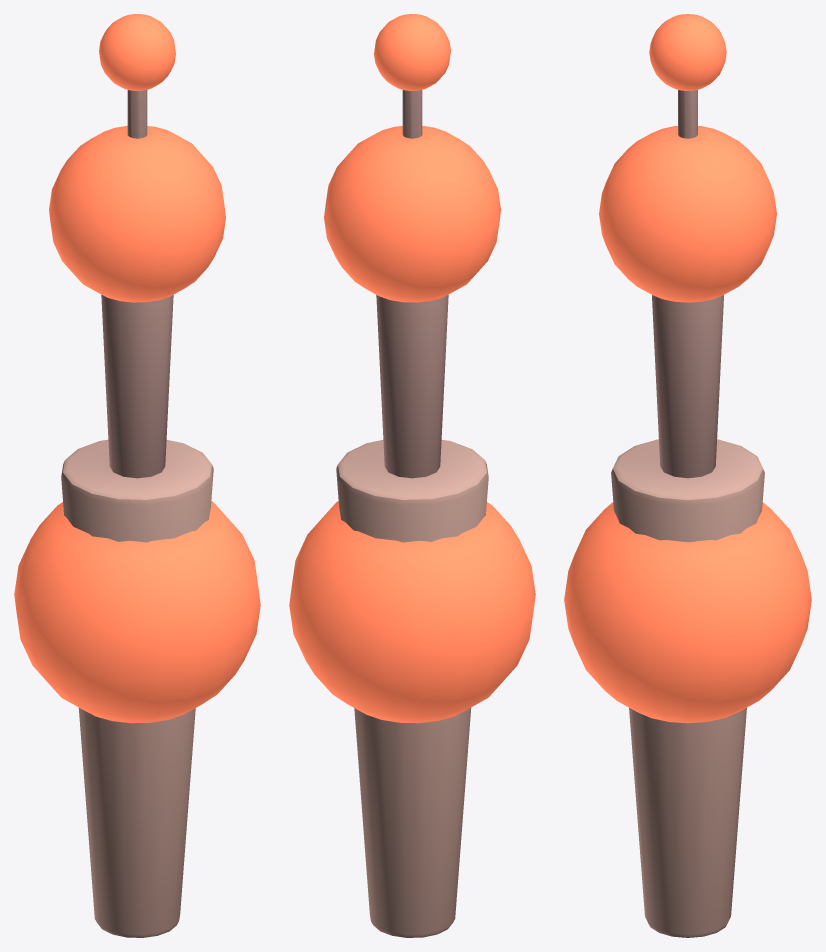
3 renders of one model, left to right at view 1: azimuth 30°, elevation 25°; view 2: azimuth 150°, elevation 25°; view 3: azimuth 270°, elevation 25°, orthographic.
Visible parts, largest first — view 1: landmark_123c154a; view 2: landmark_123c154a; view 3: landmark_123c154a.
Part boxes in pixels (x1,y1,x2,y2): landmark_123c154a: [14, 14, 260, 937]; landmark_123c154a: [289, 14, 535, 937]; landmark_123c154a: [564, 14, 811, 937].
Size of the model in its own units: 3.2 by 12.9 by 3.2.
